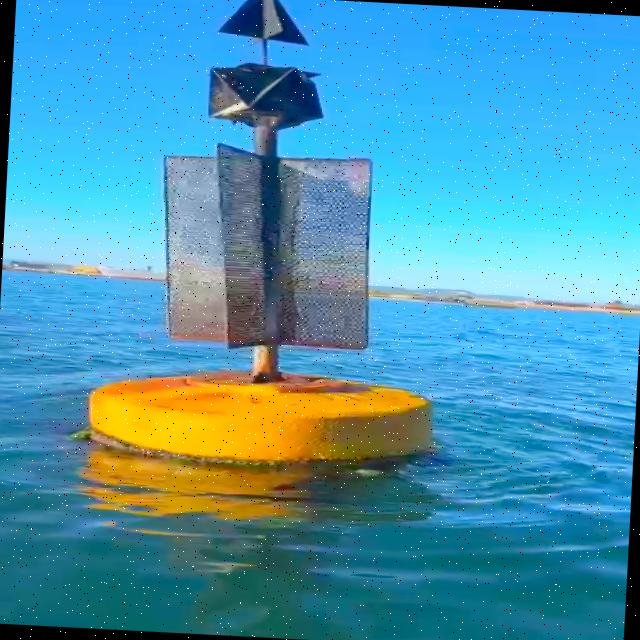marque: (99, 1, 485, 481)
